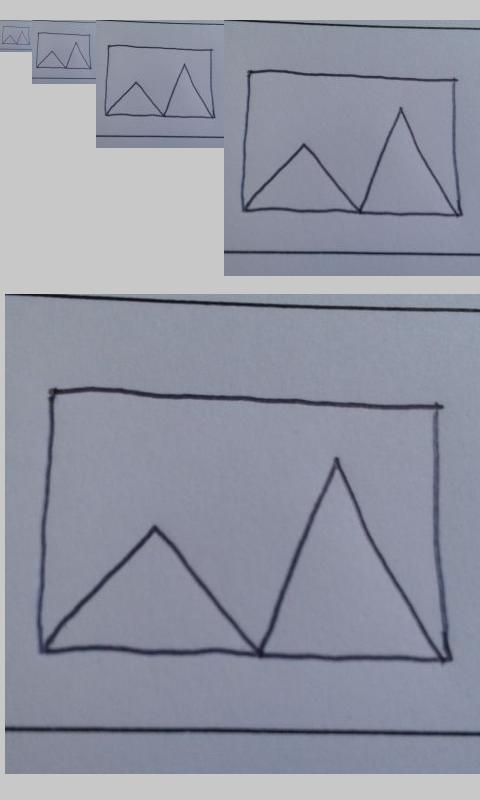image_view: (35, 381, 456, 670), (240, 63, 465, 222), (103, 41, 218, 124), (35, 31, 93, 71), (1, 25, 30, 46)
